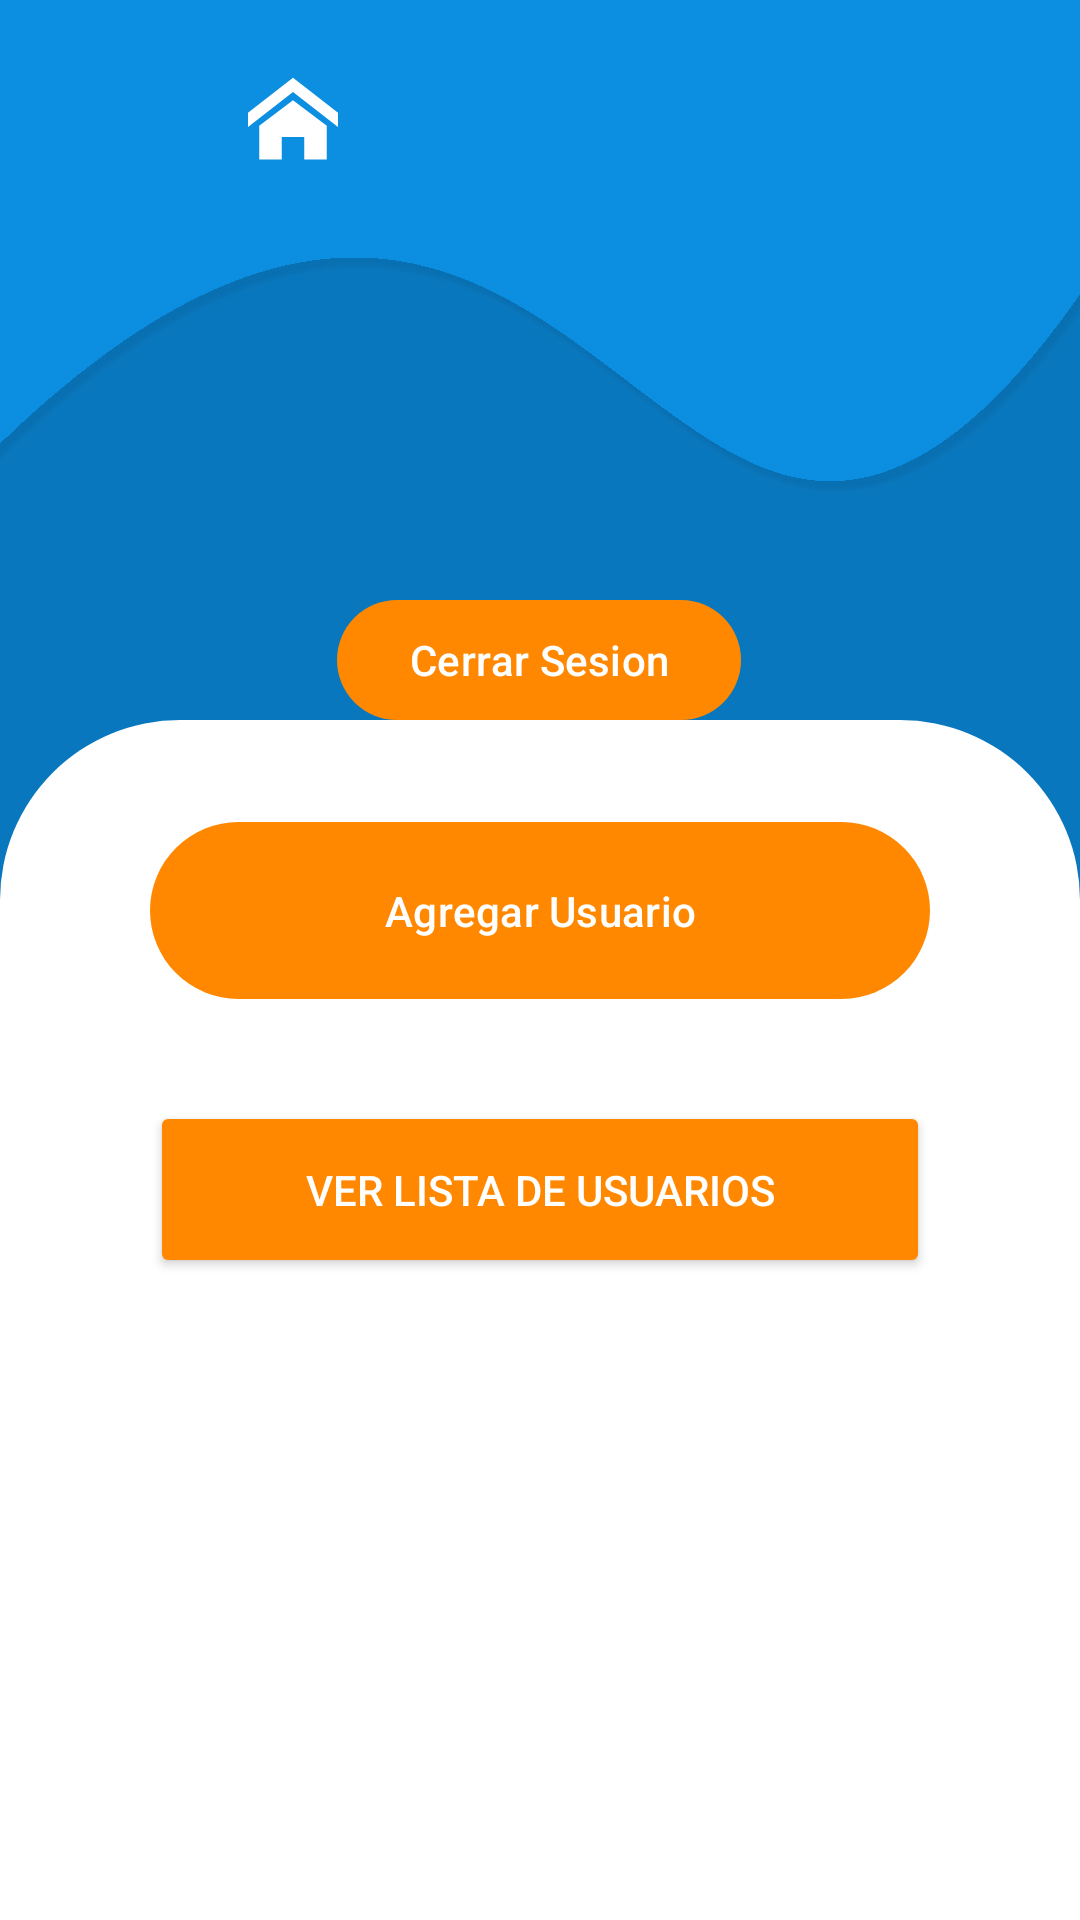

Screen size 1080 × 1920. Icon name, then its center in pixels as [x,y]:
home: [293,119]
